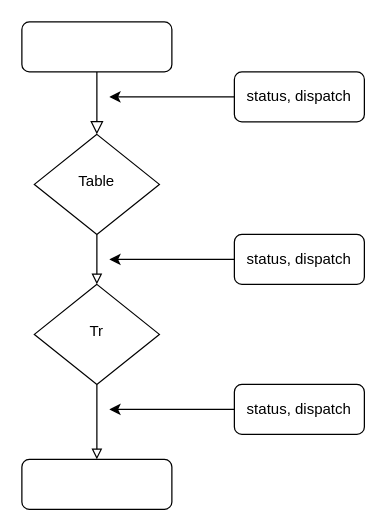
Some shapes in this 386 by 531 pixel diagram are drawn without their labels. The centre of each missing label's shape, as x and y in pixels:
"Td" belongs at point 96,483.
"TicTacToe" belongs at point 96,46.
